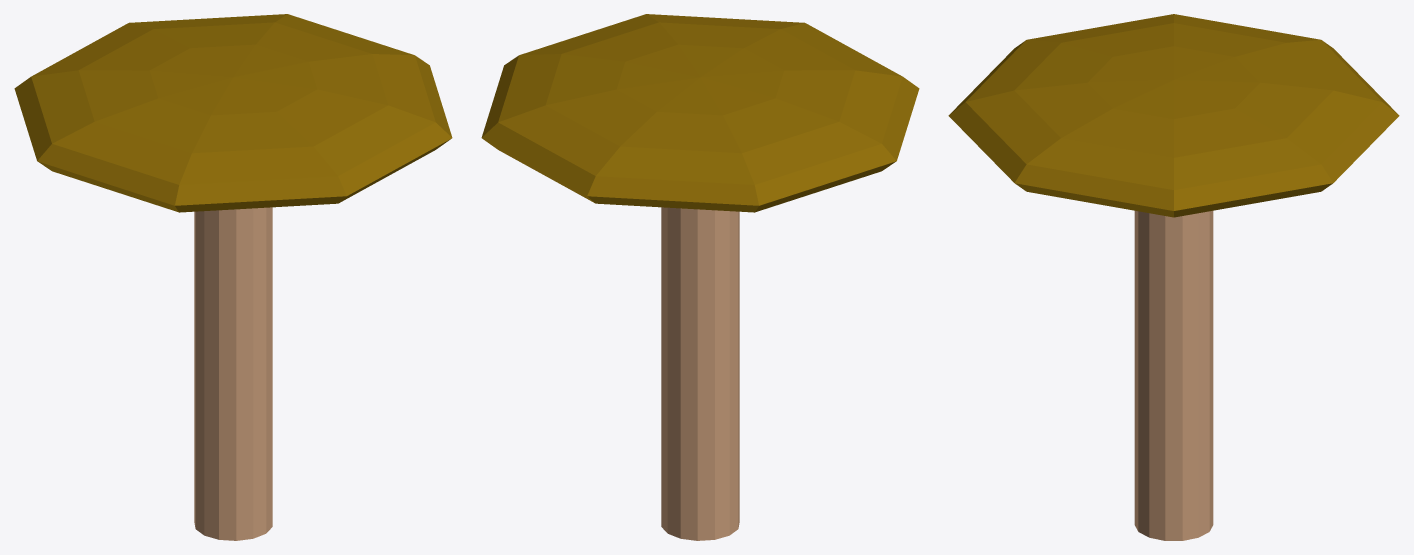
File: Mushroom.fbx
3 renders of one model, left to right at view 1: azimuth 30°, elevation 25°; view 2: azimuth 150°, elevation 25°; view 3: azimuth 270°, elevation 25°, orthographic.
Parts seen in each view (by area): view 1: Sphere; view 2: Sphere; view 3: Sphere.
Part boxes in pixels (left/top/right/bottom): Sphere: left=14, top=14, right=452, bottom=540; Sphere: left=481, top=14, right=919, bottom=540; Sphere: left=948, top=14, right=1399, bottom=540.
Size of the model in its own units: 800 by 870 by 800.
